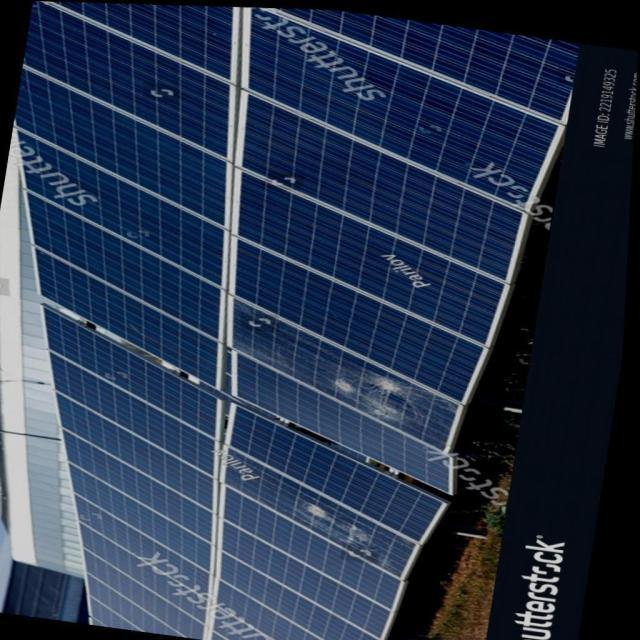cracked: (234, 301, 470, 442), (234, 463, 426, 568)
